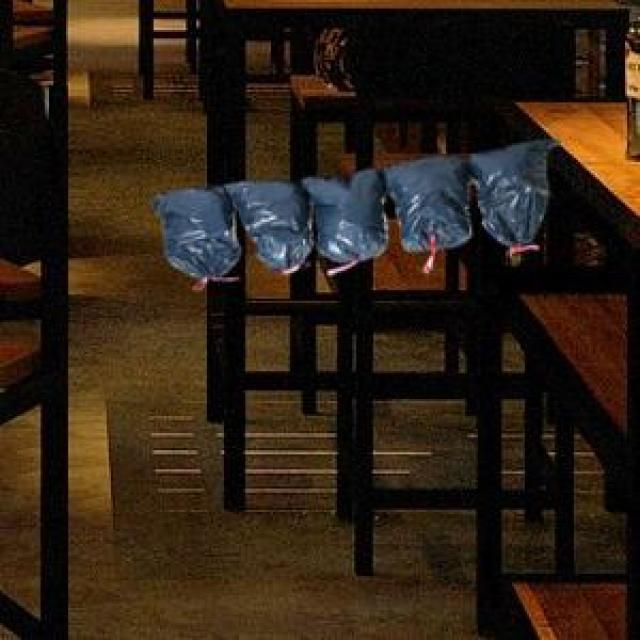Trashbag: (477, 152, 571, 255), (236, 178, 314, 302), (158, 181, 236, 288), (314, 170, 394, 272), (400, 172, 483, 251)
